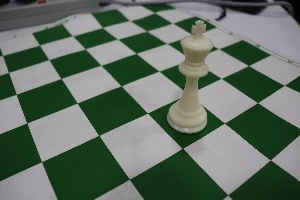white_king: (166, 6, 216, 138)
